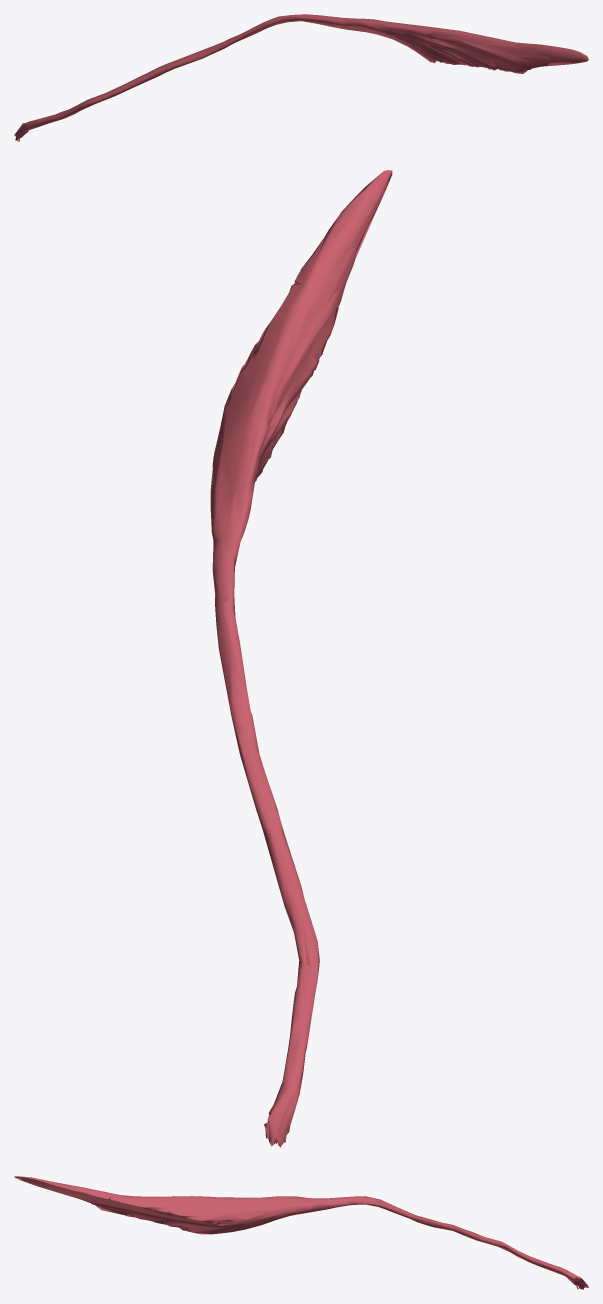
The picture shows the model from 3 angles, top to bottom: view 1: azimuth 30°, elevation 25°; view 2: azimuth 150°, elevation 25°; view 3: azimuth 270°, elevation 25°; orthographic projection. The views are drawn at different scales.
Parts seen in each view (by area): view 1: 右侧拇长伸肌; view 2: 右侧拇长伸肌; view 3: 右侧拇长伸肌.
Part boxes in pixels (x1=…): 右侧拇长伸肌: x1=14, y1=14, x2=588, y2=141; 右侧拇长伸肌: x1=210, y1=170, x2=392, y2=1147; 右侧拇长伸肌: x1=14, y1=1176, x2=588, y2=1289.
Bounding box in the file's own units: 0.1448 × 0.1335 × 0.3081.
